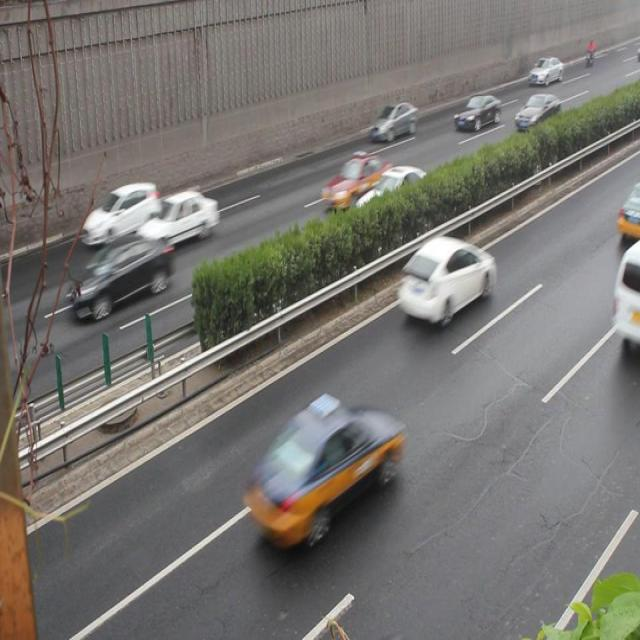car: (245, 399, 400, 542), (63, 235, 173, 318), (396, 235, 496, 324), (82, 180, 160, 247), (136, 191, 218, 249), (354, 166, 431, 226), (320, 154, 392, 209), (368, 101, 417, 141), (514, 93, 560, 135), (452, 94, 500, 134), (526, 54, 562, 89)
